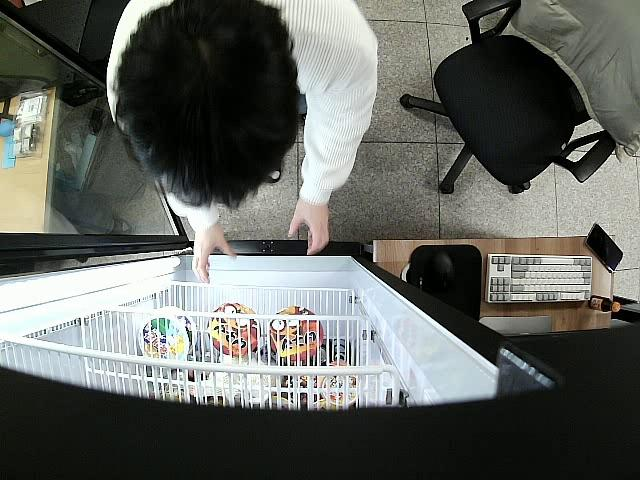00_hand: (287, 198, 332, 258), (191, 232, 237, 285)
